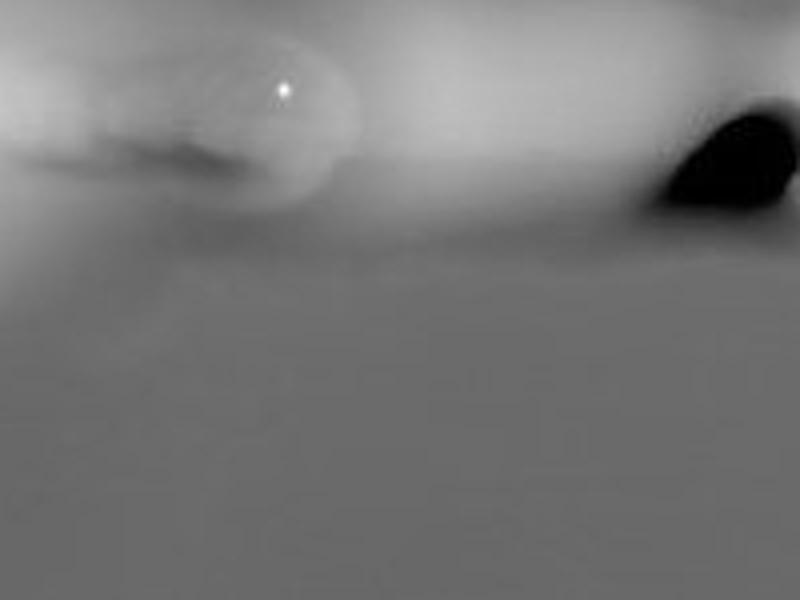defect: (649, 103, 800, 225)
